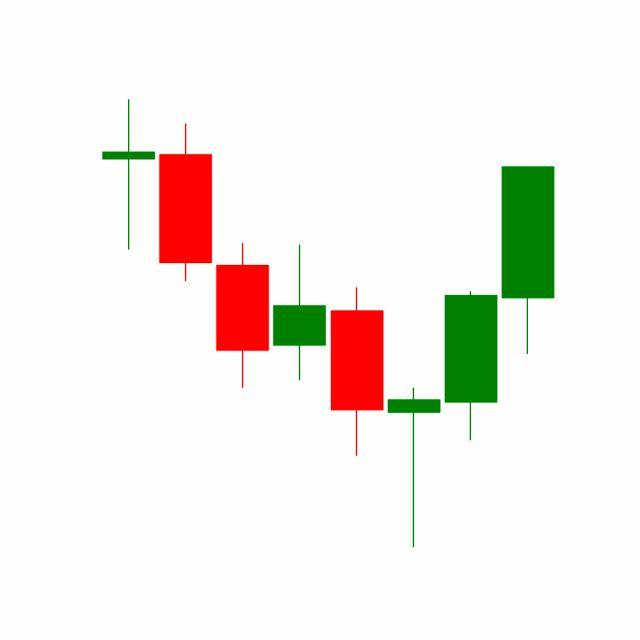Hikkake Pattern: (270, 162, 555, 549)
